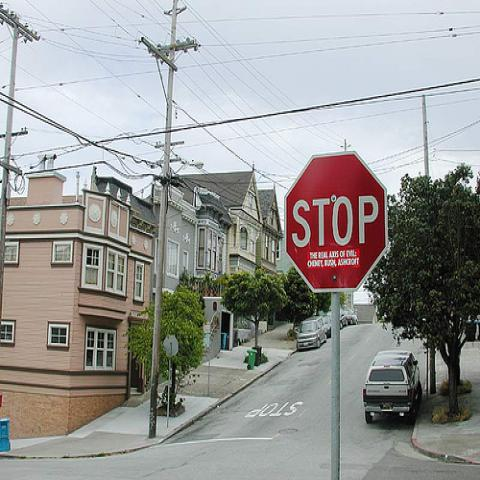car: (296, 315, 327, 351), (344, 309, 358, 325), (322, 314, 331, 338), (340, 311, 347, 325)
truck: (361, 349, 423, 423)
